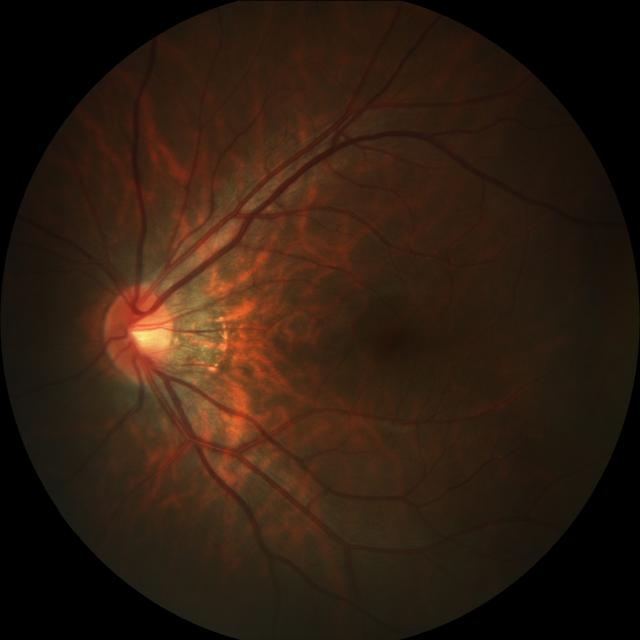OC: (120, 307, 164, 358)
OD: (105, 284, 175, 377)
